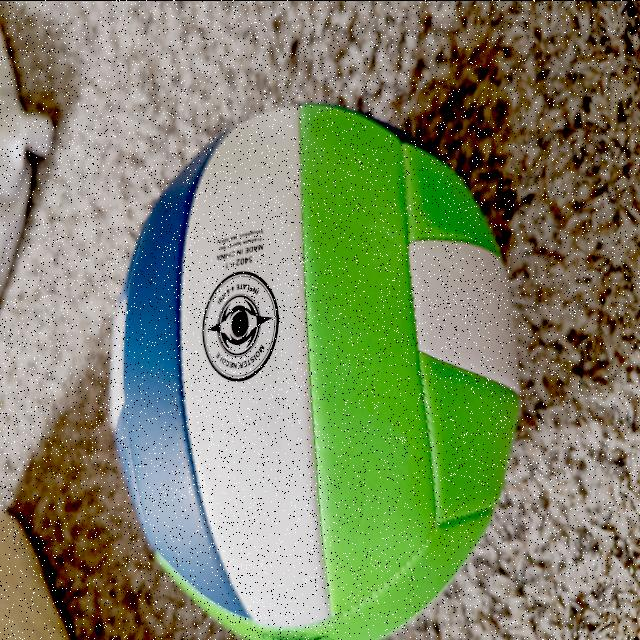ball: (110, 100, 518, 640)
